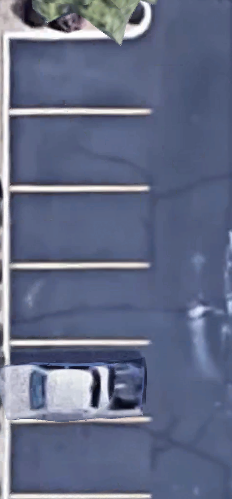Occupied: (9, 342, 148, 419)
Vacant: (9, 110, 149, 189), (7, 36, 150, 113), (8, 189, 149, 267), (9, 266, 148, 344), (7, 421, 149, 497)
